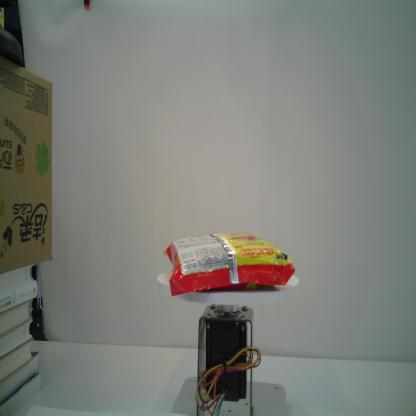Instant Noodles: (163, 231, 296, 298)
